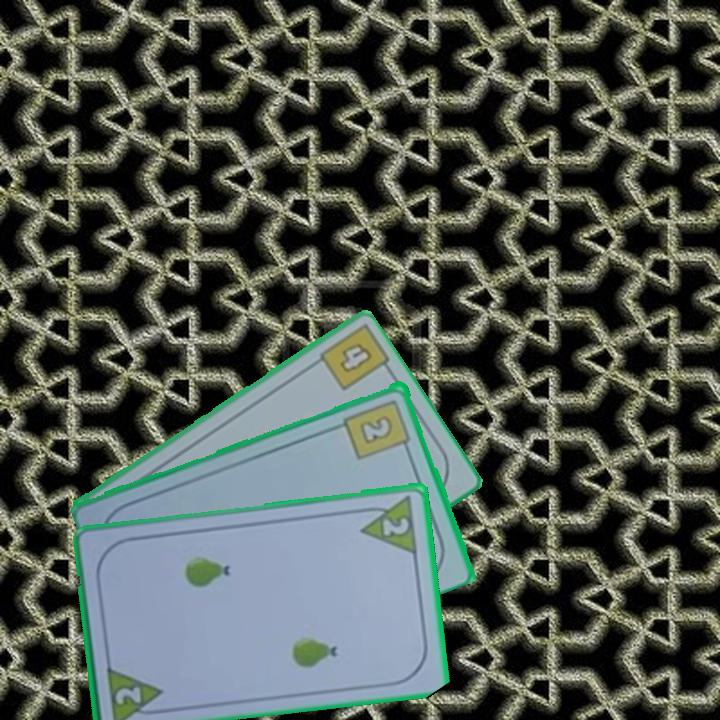2b: (340, 395, 414, 462)
2p: (111, 682, 145, 708), (379, 513, 412, 538)
4b: (336, 338, 376, 376)
